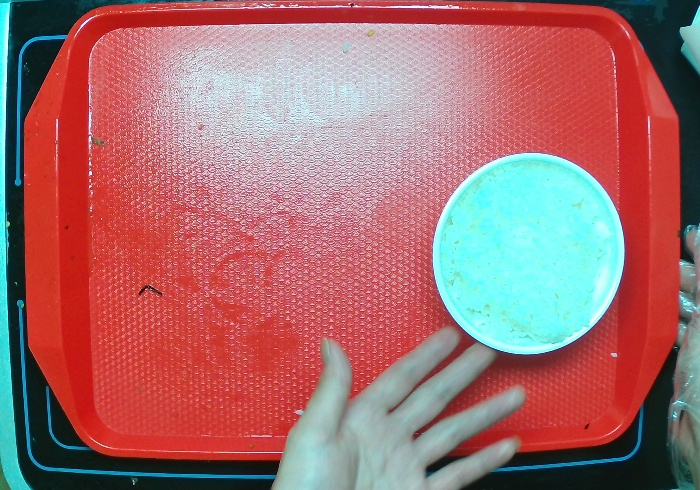YKMZ-Fan_Wan: (414, 144, 630, 371)
